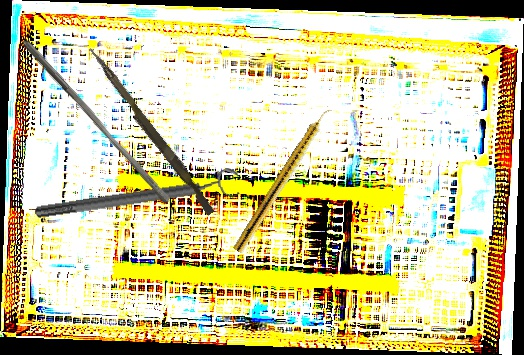Fixation Ring: (32, 165, 242, 228)
Handpiece: (232, 104, 335, 256)
Pusher: (14, 37, 178, 206), (81, 45, 220, 217)
